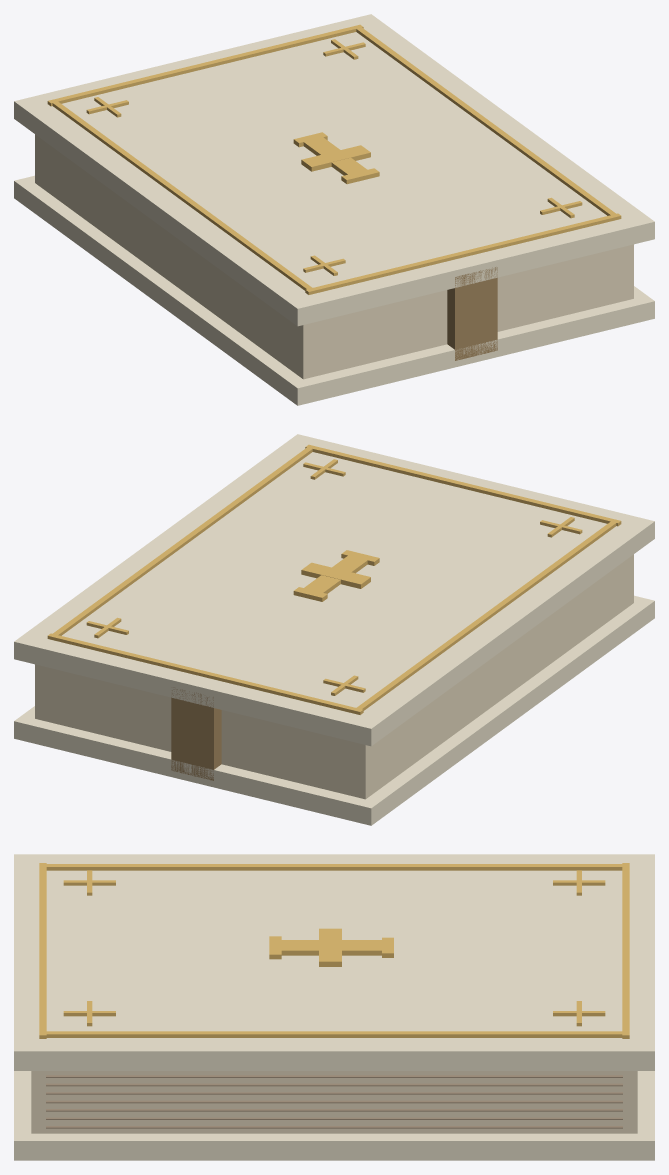
The model's file is biblia_celestial_fechada.glb.
The picture shows the model from 3 angles, top to bottom: view 1: azimuth 30°, elevation 25°; view 2: azimuth 150°, elevation 25°; view 3: azimuth 270°, elevation 25°; orthographic projection. The views are drawn at different scales.
Parts seen in each view (by area): view 1: Closed_Front_Cover, Closed_Page_Block, Closed_Back_Cover, Closed_Spine, Closed_Frame_Left, Closed_Frame_Right, Closed_Frame_Bottom, Closed_Frame_Top, Closed_Cross_Vertical, Closed_Cross_Horizontal; view 2: Closed_Front_Cover, Closed_Page_Block, Closed_Back_Cover, Closed_Spine, Closed_Frame_Left, Closed_Frame_Right, Closed_Frame_Top, Closed_Frame_Bottom, Closed_Cross_Vertical, Closed_Cross_Horizontal; view 3: Closed_Front_Cover, Closed_Page_Block, Closed_Back_Cover, Closed_Frame_Left, Closed_Frame_Right, Closed_Page_Edge_Line_3, Closed_Page_Edge_Line_5, Closed_Page_Edge_Line_0, Closed_Page_Edge_Line_1, Closed_Page_Edge_Line_2, Closed_Page_Edge_Line_4, Closed_Page_Edge_Line_6 (+4 smaller).
Boxes of the visible parts, x1,y1,x2,y2 form: Closed_Front_Cover: [14, 14, 654, 326]; Closed_Page_Block: [35, 134, 633, 379]; Closed_Back_Cover: [14, 175, 654, 405]; Closed_Spine: [447, 267, 497, 360]; Closed_Frame_Left: [52, 101, 312, 290]; Closed_Frame_Right: [356, 27, 616, 215]; Closed_Frame_Bottom: [305, 213, 621, 294]; Closed_Frame_Top: [47, 24, 363, 106]; Closed_Cross_Vertical: [303, 134, 367, 175]; Closed_Cross_Horizontal: [301, 145, 370, 171]; Closed_Front_Cover: [14, 434, 654, 746]; Closed_Page_Block: [35, 554, 633, 799]; Closed_Back_Cover: [14, 595, 654, 825]; Closed_Spine: [171, 687, 221, 780]; Closed_Frame_Left: [356, 521, 616, 710]; Closed_Frame_Right: [52, 447, 312, 635]; Closed_Frame_Top: [47, 633, 363, 714]; Closed_Frame_Bottom: [305, 444, 621, 526]; Closed_Cross_Vertical: [304, 555, 367, 595]; Closed_Cross_Horizontal: [301, 562, 370, 588]; Closed_Front_Cover: [14, 854, 654, 1070]; Closed_Page_Block: [31, 1071, 637, 1133]; Closed_Back_Cover: [14, 1071, 654, 1160]; Closed_Frame_Left: [46, 864, 622, 870]; Closed_Frame_Right: [46, 1031, 622, 1037]; Closed_Page_Edge_Line_3: [46, 1100, 622, 1103]; Closed_Page_Edge_Line_5: [46, 1083, 622, 1086]; Closed_Page_Edge_Line_0: [46, 1126, 622, 1128]; Closed_Page_Edge_Line_1: [46, 1117, 622, 1119]; Closed_Page_Edge_Line_2: [46, 1109, 622, 1111]; Closed_Page_Edge_Line_4: [46, 1092, 622, 1094]; Closed_Page_Edge_Line_6: [46, 1075, 622, 1077].
Size of the model in its own units: 1.6 by 0.4435 by 2.2.
